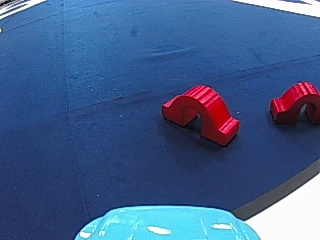bridge: (158, 80, 244, 149), (268, 78, 319, 128)
